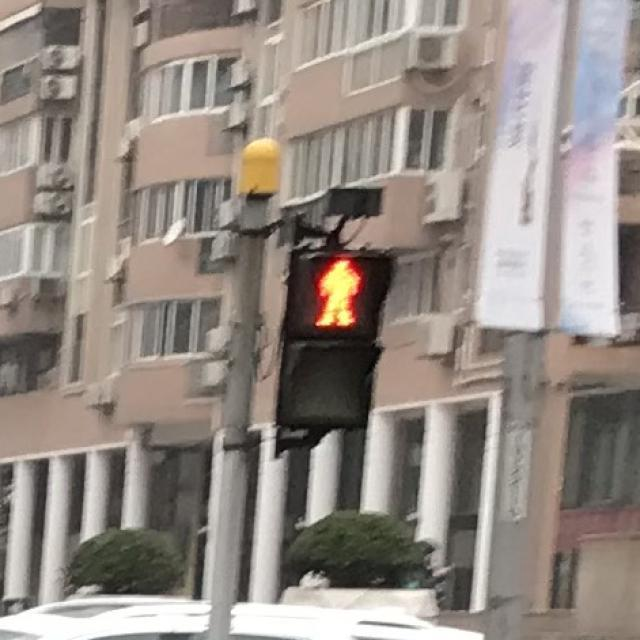red-crossing: (296, 252, 366, 330)
